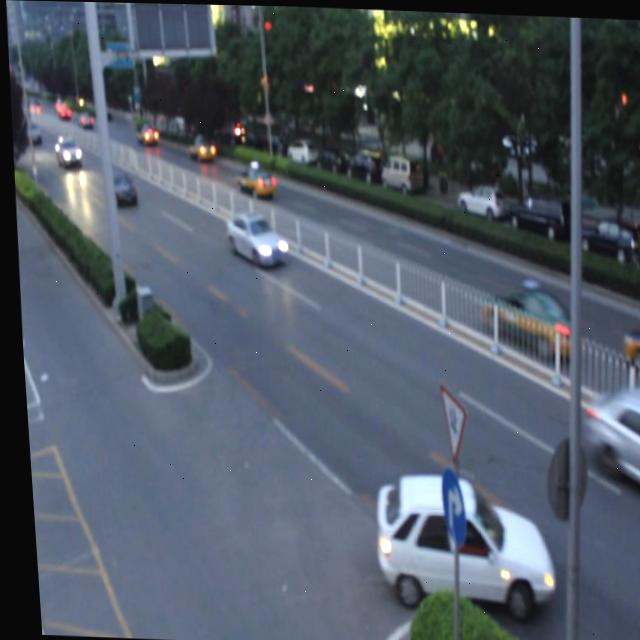car: (367, 469, 548, 608), (478, 281, 580, 356), (580, 385, 640, 495), (223, 211, 285, 265), (233, 163, 273, 198), (104, 168, 136, 205), (185, 133, 214, 163)
